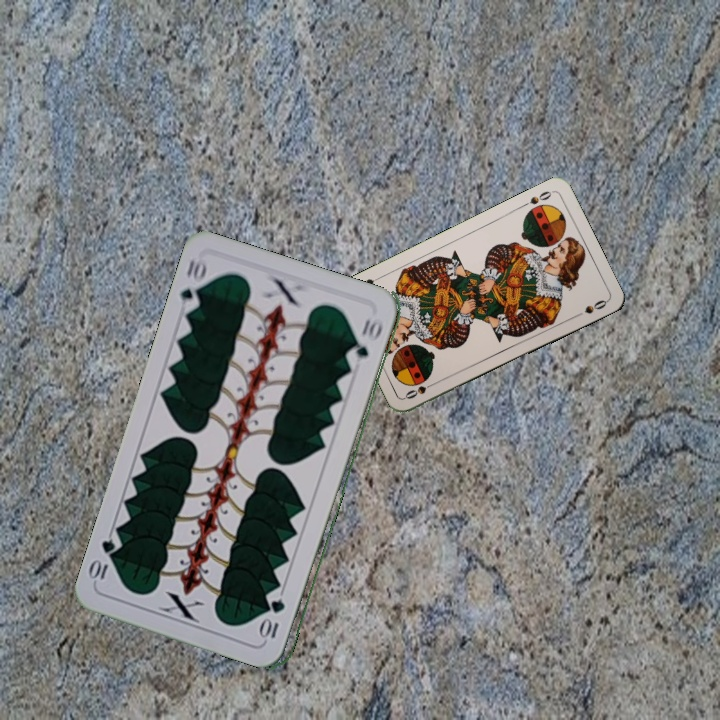G10: (176, 254, 210, 314), (260, 594, 288, 641)
SO: (401, 378, 440, 402), (517, 187, 555, 210)
